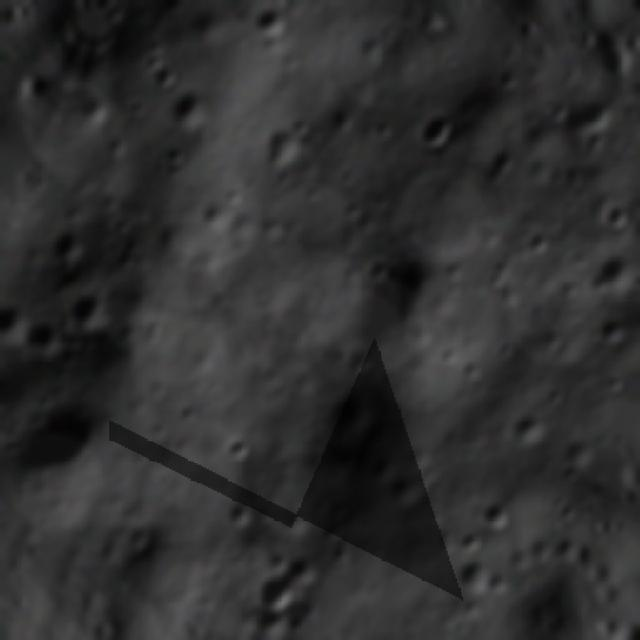crater: (414, 101, 464, 157), (254, 573, 304, 616), (454, 560, 501, 605), (142, 54, 185, 95), (471, 503, 518, 539), (220, 428, 262, 468), (341, 348, 381, 386), (597, 200, 628, 232), (456, 530, 481, 556), (634, 211, 640, 254)
